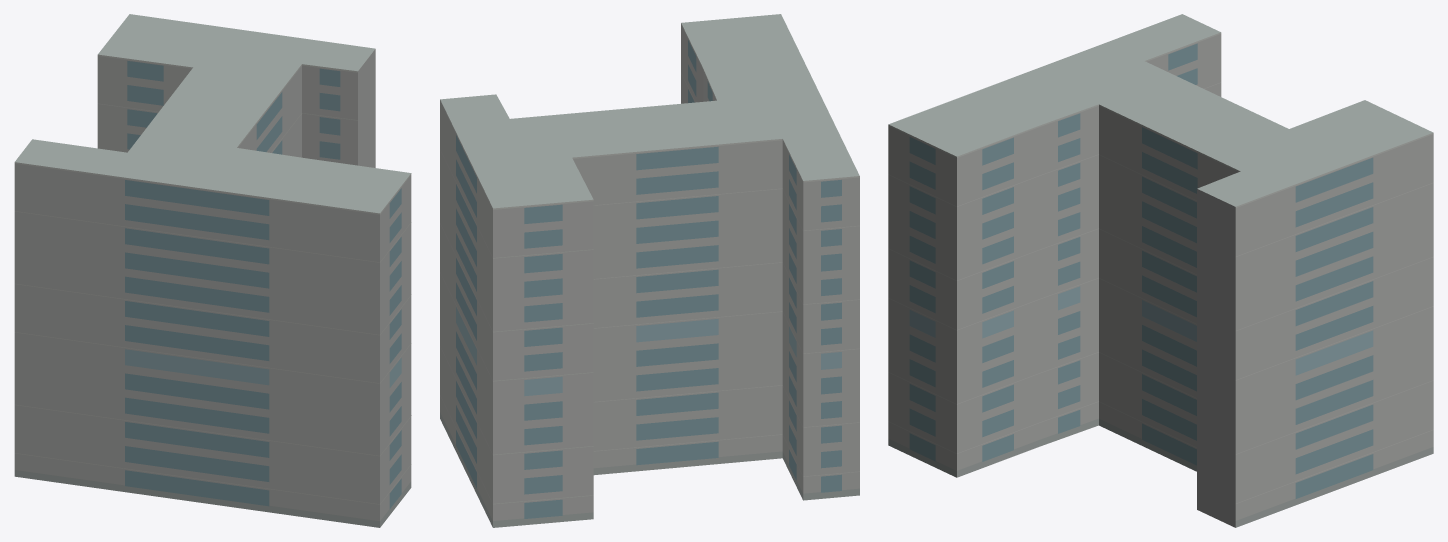
File: survey-upis-33022563.glb
3 views of the same model, side by side, from view 1: azimuth 30°, elevation 25°; view 2: azimuth 150°, elevation 25°; view 3: azimuth 270°, elevation 25° (orthographic). The views are drawn at different scales.
Visible parts, largest first — view 1: survey-upis-33022563.tmp; view 2: survey-upis-33022563.tmp; view 3: survey-upis-33022563.tmp.
Part boxes in pixels (<box>): survey-upis-33022563.tmp: <box>14,14,411,527</box>; survey-upis-33022563.tmp: <box>440,14,859,527</box>; survey-upis-33022563.tmp: <box>888,14,1433,527</box>.
Size of the model in its own units: 66.84 by 51.88 by 79.84.
